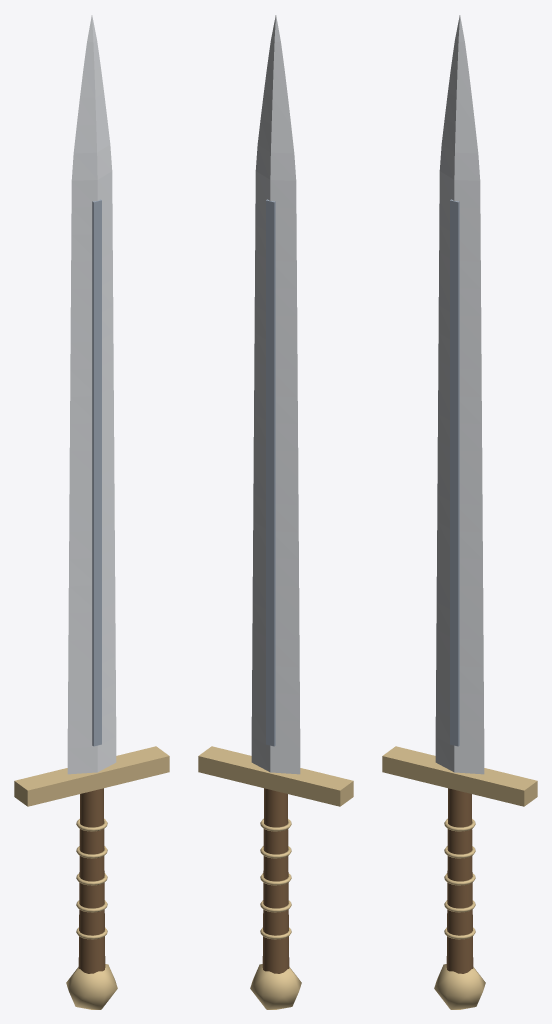
File: metin2_kilic_longsword.glb
3 renders of one model, left to right at view 1: azimuth 30°, elevation 25°; view 2: azimuth 150°, elevation 25°; view 3: azimuth 330°, elevation 25°, orthographic.
Visible parts, largest first — view 1: Metin2_Kilic_longsword; view 2: Metin2_Kilic_longsword; view 3: Metin2_Kilic_longsword.
Boxes of the visible parts, x1,y1,x2,y2 form: Metin2_Kilic_longsword: (14, 15, 169, 1009); Metin2_Kilic_longsword: (198, 15, 353, 1009); Metin2_Kilic_longsword: (382, 15, 537, 1009).
Bounding box in the file's own units: 0.22 × 1.48 × 0.072.
